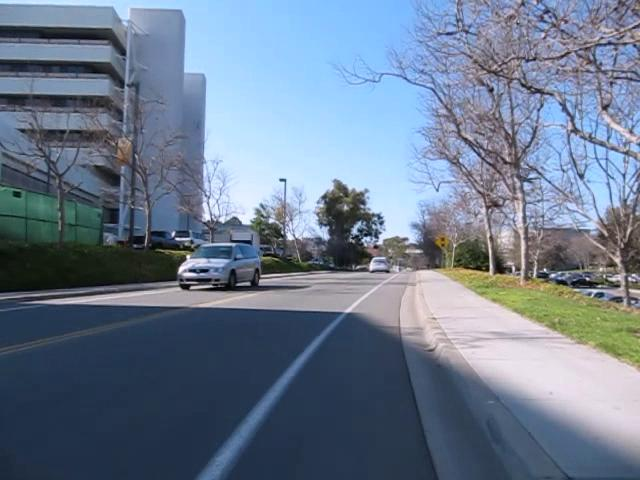signalAhead: (434, 233, 451, 250)
